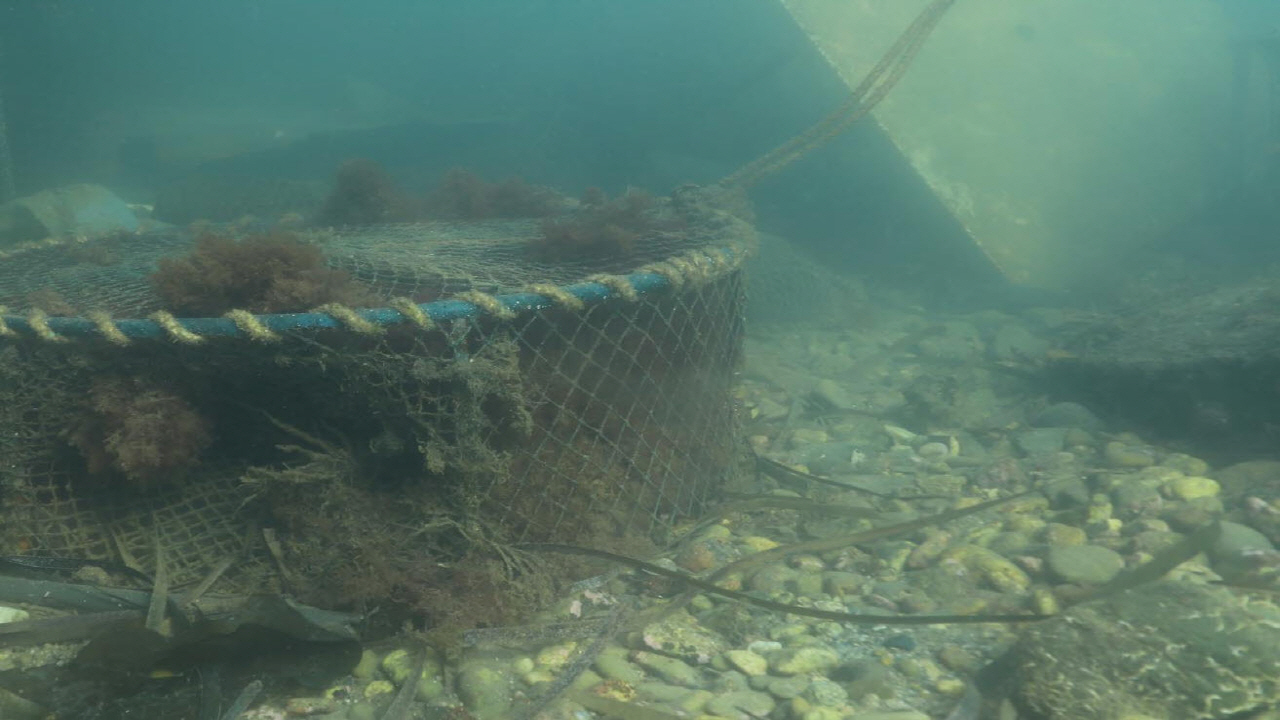bundle of ropes: (674, 0, 955, 200)
circular fish trap: (0, 189, 758, 598)
